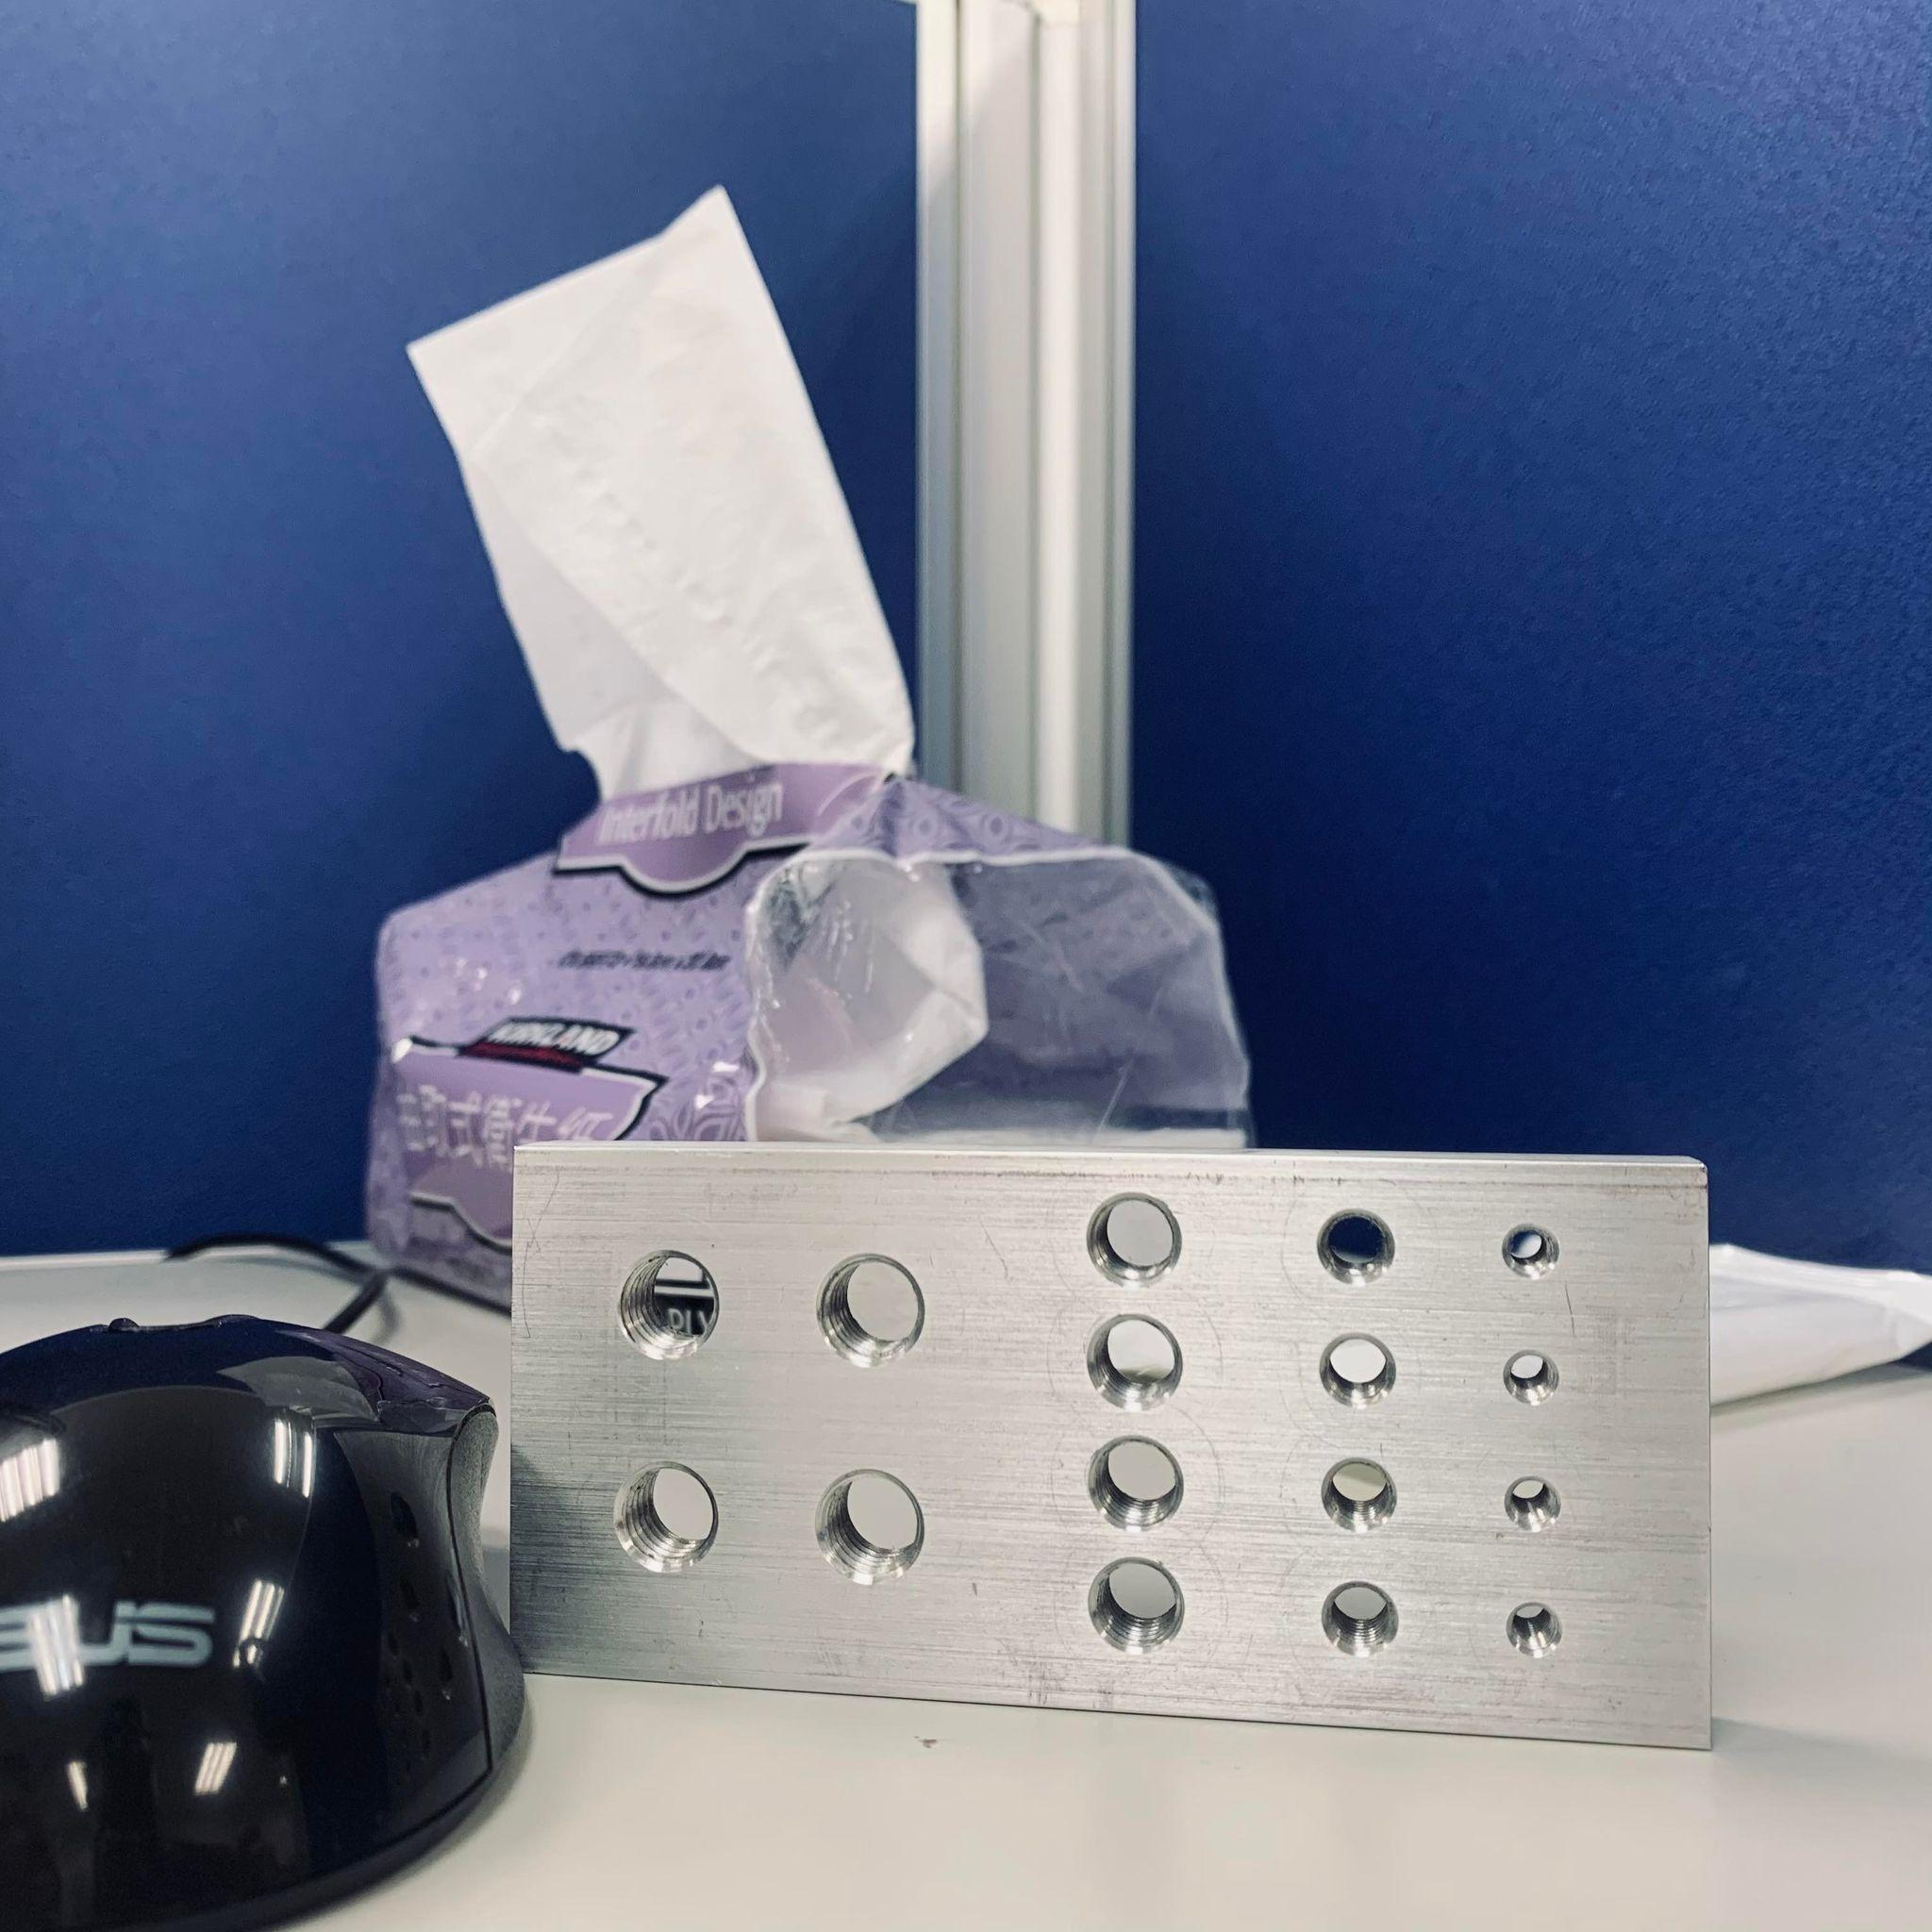hole: (610, 1246, 727, 1366), (812, 1467, 927, 1587), (819, 1249, 931, 1371), (612, 1451, 720, 1575), (1083, 1315, 1187, 1417), (1083, 1557, 1187, 1658), (1085, 1189, 1184, 1292), (1083, 1433, 1185, 1532), (1315, 1327, 1403, 1414), (1316, 1578, 1403, 1665), (1315, 1205, 1399, 1292), (1320, 1454, 1403, 1537), (1502, 1214, 1564, 1288), (1500, 1341, 1560, 1412), (1502, 1601, 1566, 1663), (1500, 1474, 1562, 1536)
